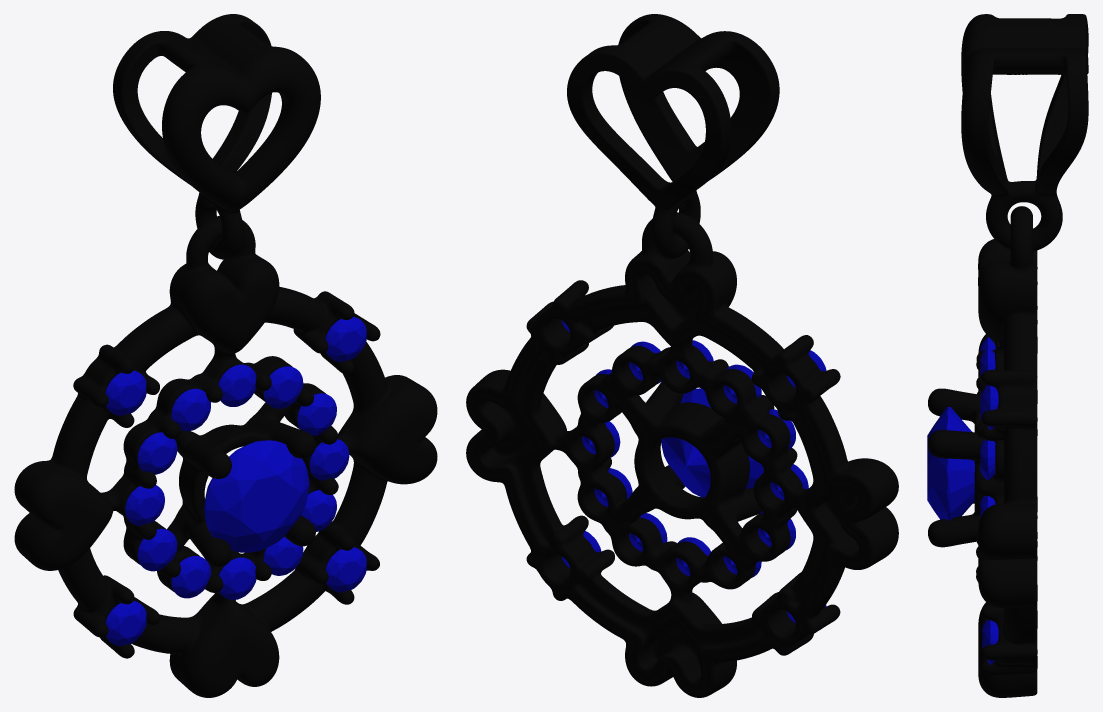
The picture shows the model from 3 angles, left to right: view 1: azimuth 30°, elevation 25°; view 2: azimuth 150°, elevation 25°; view 3: azimuth 270°, elevation 25°; orthographic projection. The views are drawn at different scales.
Visible parts, largest first — view 1: obj0 (×2), G_1.4 (×12), G_3.7, G_1.5 (×4); view 2: obj0 (×2), G_3.7; view 3: obj0 (×2), G_3.7, G_1.4 (×2), G_1.5 (×2).
Boxes of the visible parts, bbox=[...] form: obj0 (×2): bbox=[14, 14, 437, 697]; G_1.4 (×12): bbox=[125, 364, 349, 599]; G_3.7: bbox=[204, 440, 309, 552]; G_1.5 (×4): bbox=[105, 316, 366, 645]; obj0 (×2): bbox=[466, 14, 898, 697]; G_3.7: bbox=[661, 388, 763, 497]; obj0 (×2): bbox=[928, 14, 1088, 697]; G_3.7: bbox=[927, 407, 974, 520]; G_1.4 (×2): bbox=[980, 346, 995, 480]; G_1.5 (×2): bbox=[982, 385, 998, 664].
Size of the model in its own units: 2.18 by 3.27 by 0.7382.
